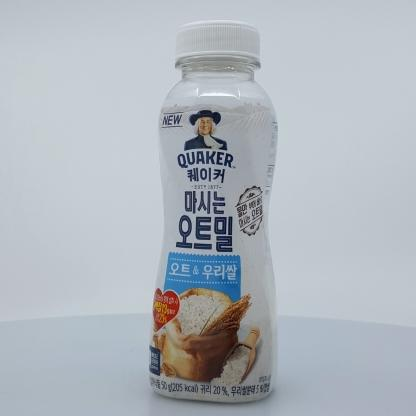---------50G: (149, 20, 278, 402)
